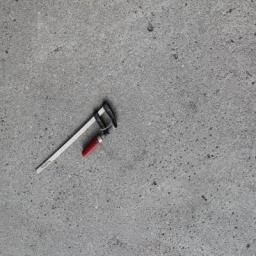FOD: (35, 101, 120, 176)
